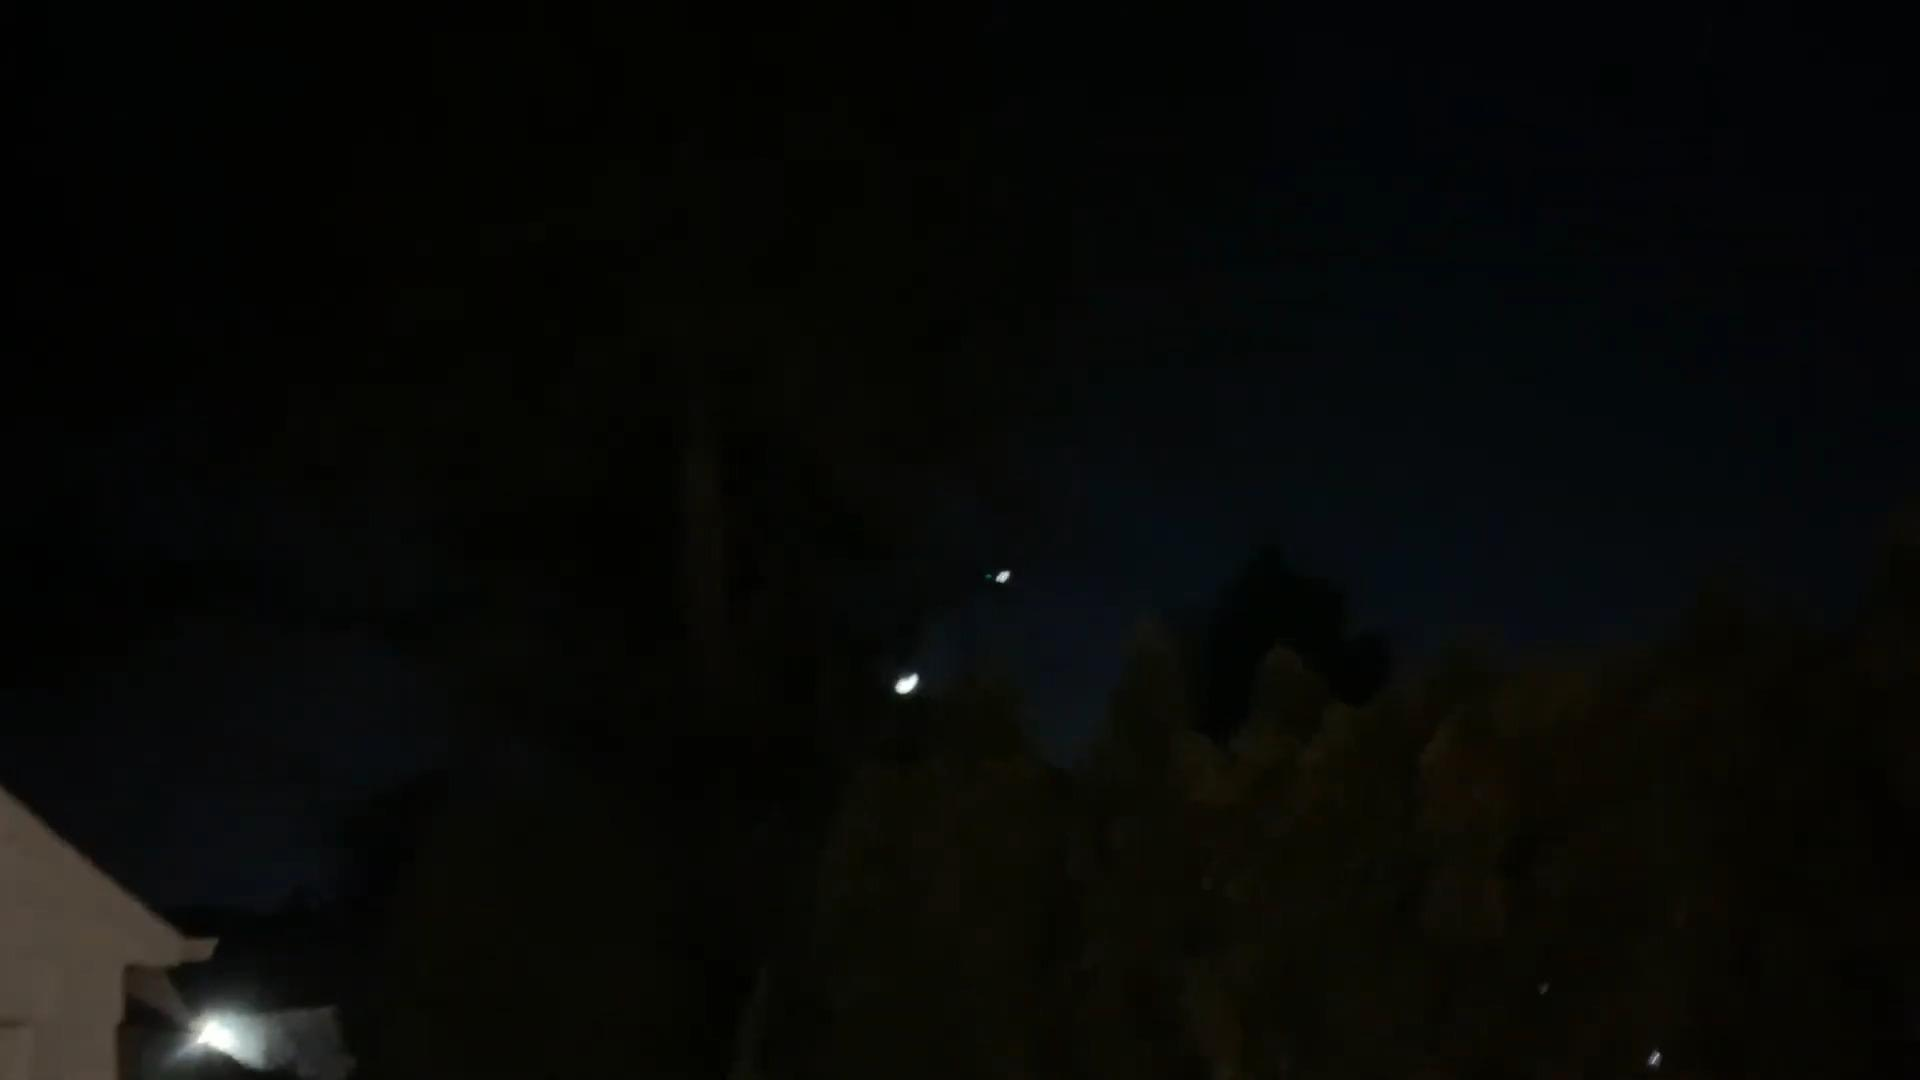Plane: (969, 556, 1021, 609)
